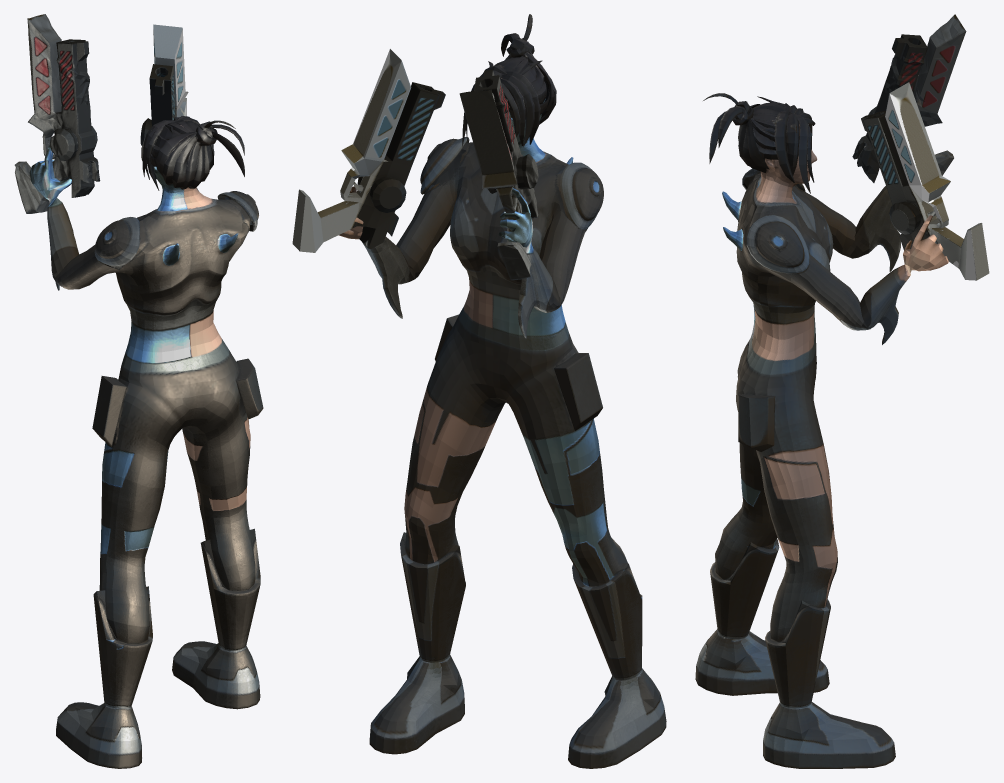
The picture shows the model from 3 angles, left to right: view 1: azimuth 30°, elevation 25°; view 2: azimuth 150°, elevation 25°; view 3: azimuth 270°, elevation 25°; orthographic projection. The views are drawn at different scales.
Parts seen in each view (by area): view 1: Dex_LOW_Plane.001; view 2: Dex_LOW_Plane.001; view 3: Dex_LOW_Plane.001.
Boxes of the visible parts, left/top/right/bottom form: Dex_LOW_Plane.001: left=14, top=14, right=263, bottom=768; Dex_LOW_Plane.001: left=292, top=14, right=666, bottom=768; Dex_LOW_Plane.001: left=695, top=14, right=989, bottom=768.
Size of the model in its own units: 1.76 by 5.08 by 1.99.
